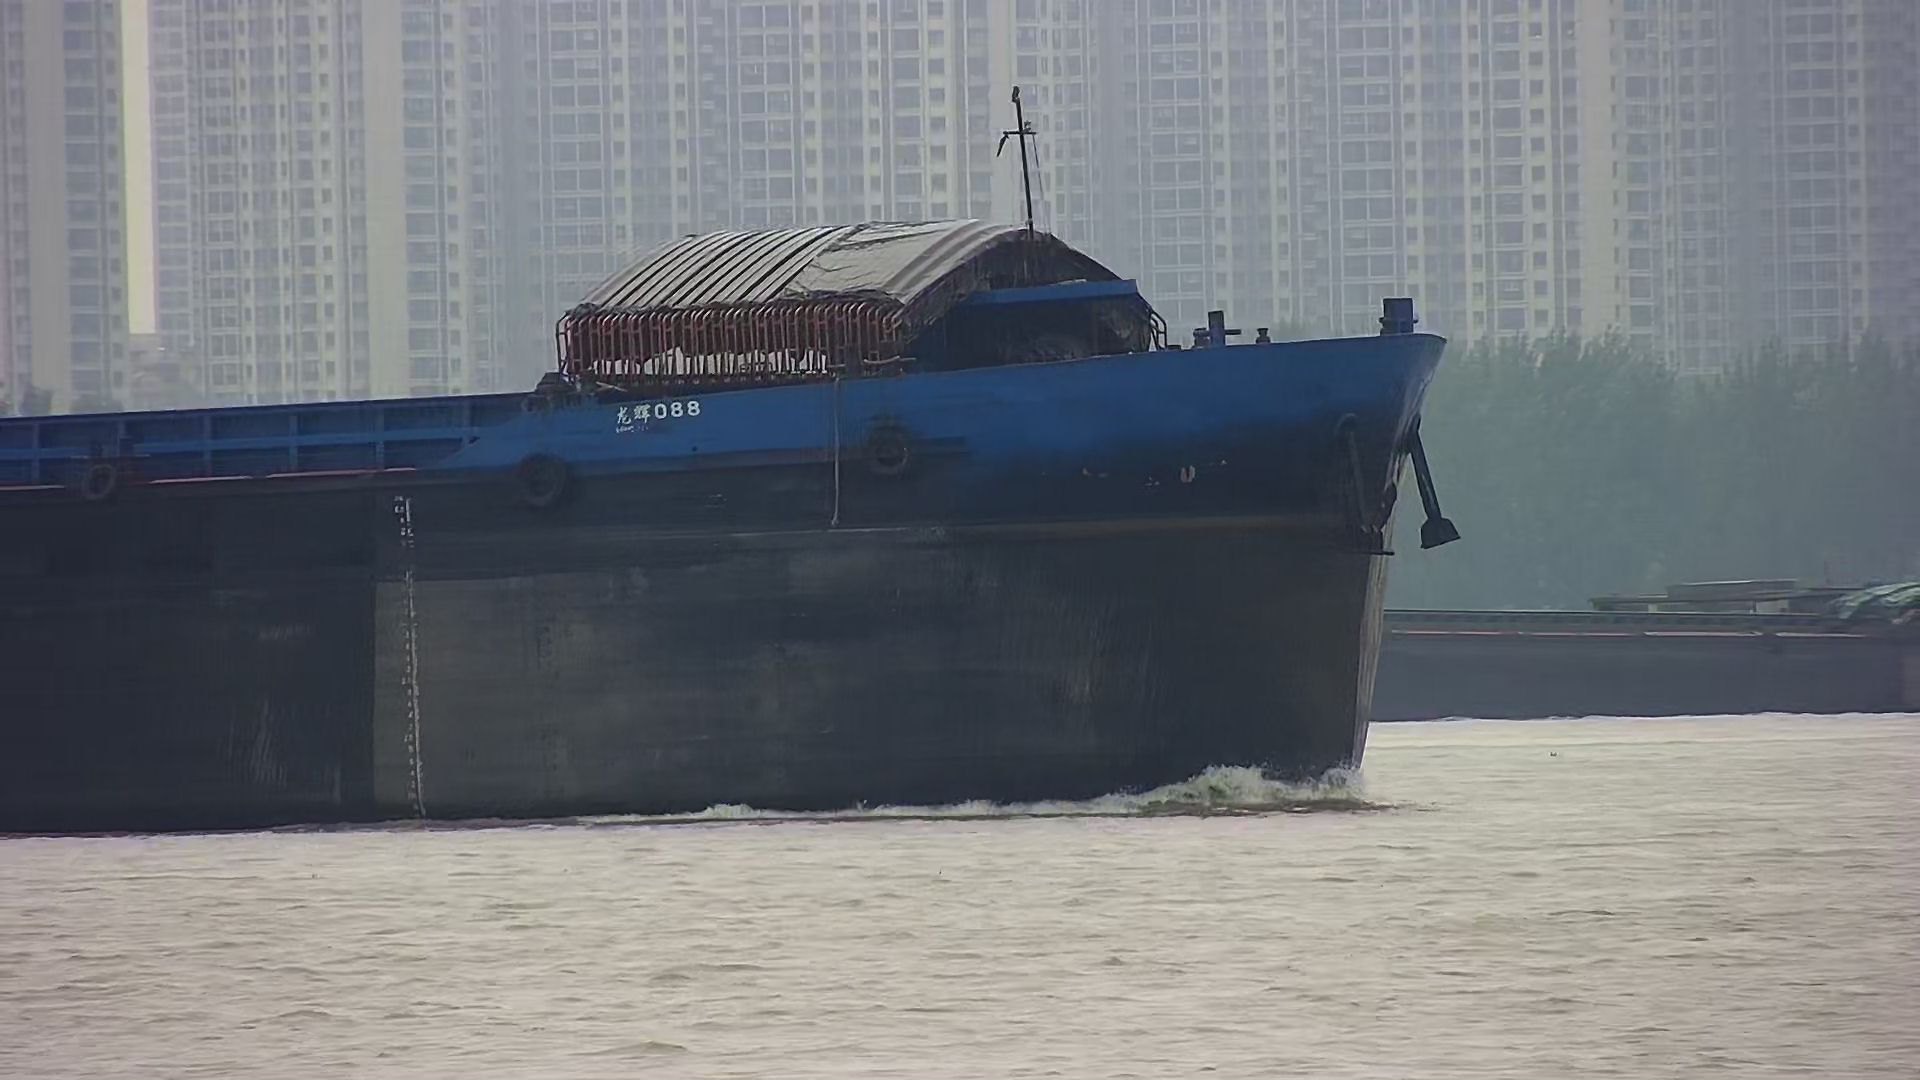ship: (1, 185, 1457, 840), (1366, 572, 1920, 717)
